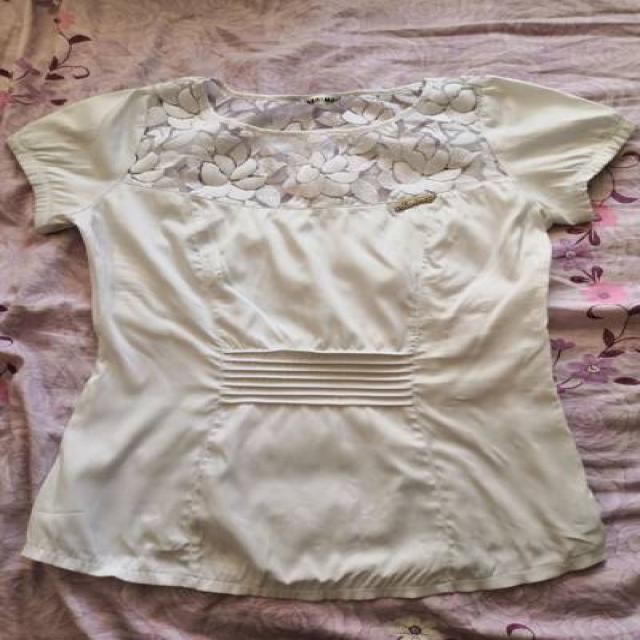Clothes -Biodegradable-: (2, 77, 633, 600)
